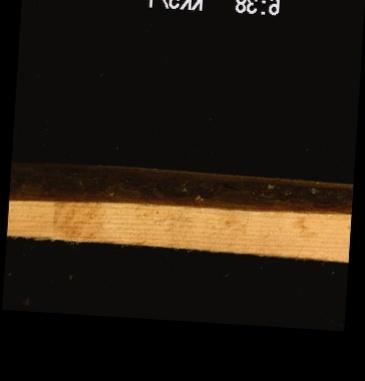wave: (8, 168, 350, 211)
